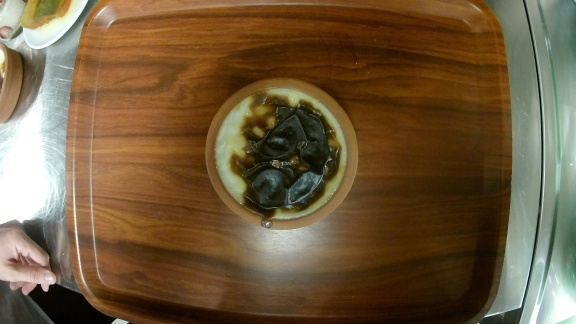sutlac: (204, 79, 359, 230)
